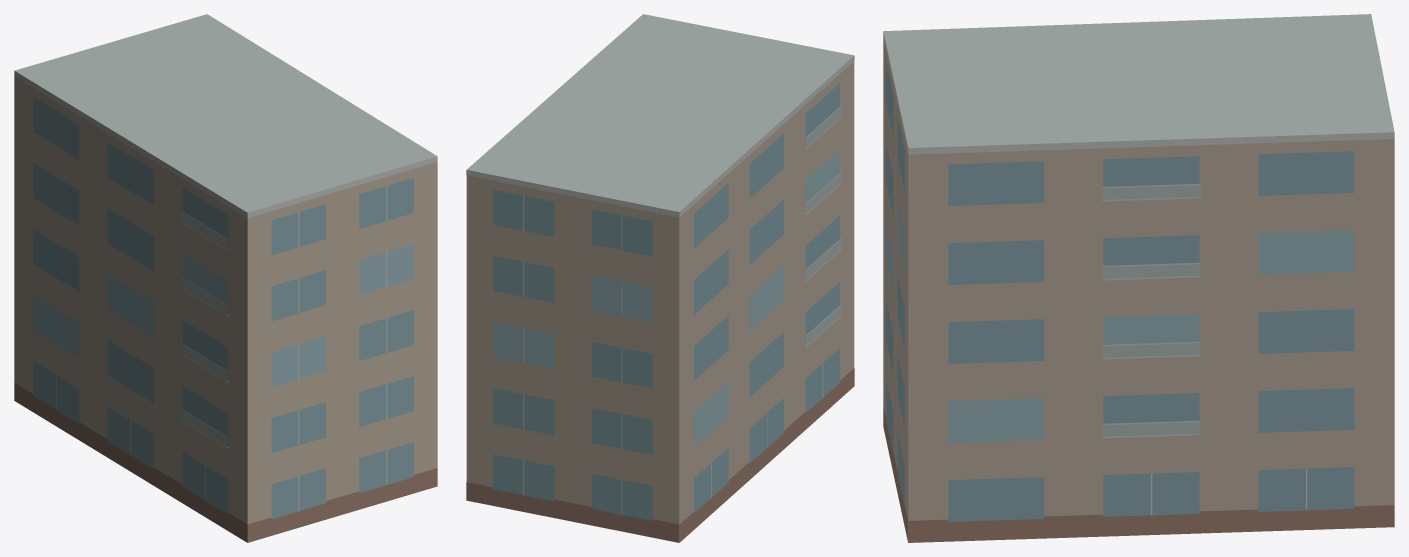
File: survey-upis-32667031.glb
The picture shows the model from 3 angles, left to right: view 1: azimuth 30°, elevation 25°; view 2: azimuth 150°, elevation 25°; view 3: azimuth 270°, elevation 25°; orthographic projection. The views are drawn at different scales.
Visible parts, largest first — view 1: survey-upis-32667031.tmp; view 2: survey-upis-32667031.tmp; view 3: survey-upis-32667031.tmp.
Part boxes in pixels (x1,y1,x2,y2): survey-upis-32667031.tmp: [14, 14, 437, 542]; survey-upis-32667031.tmp: [466, 14, 854, 542]; survey-upis-32667031.tmp: [883, 14, 1394, 542].
Bounding box in the file's own units: 10.64 × 14.6 × 17.15.
